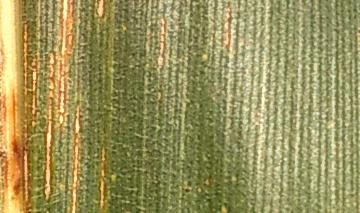tarspot: (181, 184, 194, 196)
